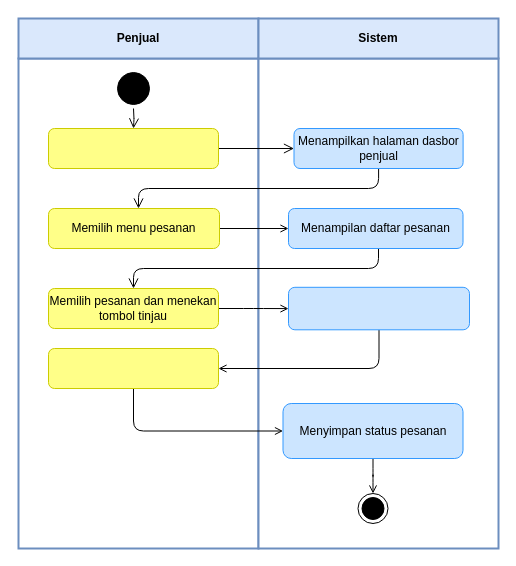
Some shapes in this 516 by 566 pixel diagram are drawn without their labels. Each missing label, with the centre of its shape:
"Masuk kedalam aplikasi" goes at pixel 133 148.
"Menampilkan tampilan detil pesanan" goes at pixel 379 308.
"Mengisi harga ongkir dan mengubah status pesanan" goes at pixel 133 368.
